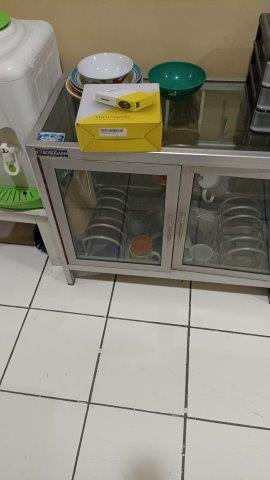kardus: (76, 83, 162, 153)
